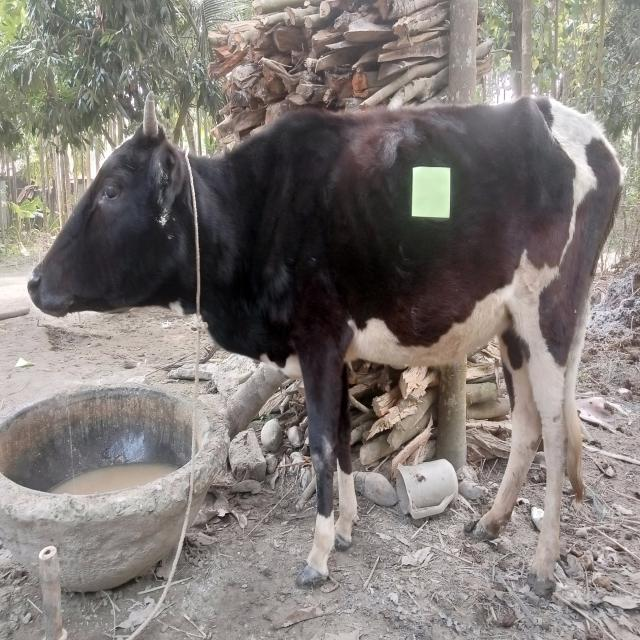badan_sapi: (282, 102, 622, 366)
sapi: (17, 75, 634, 606)
